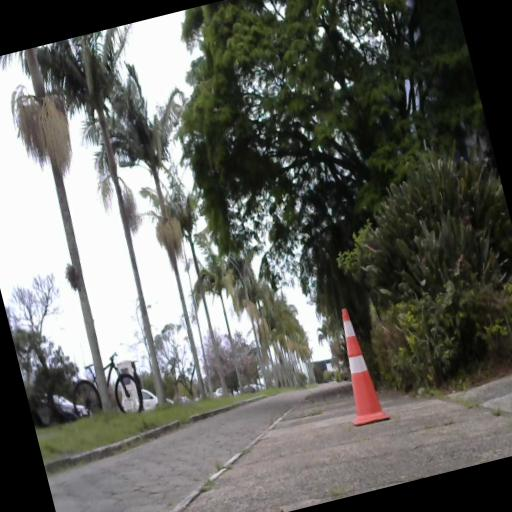cone: (328, 302, 388, 426)
